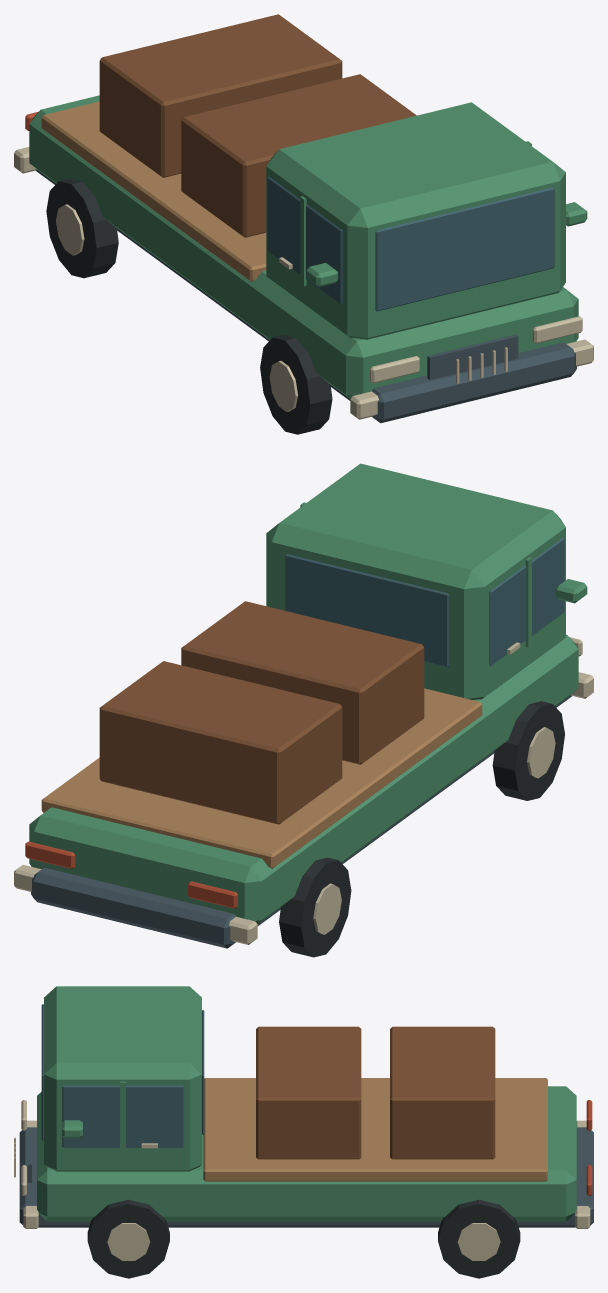
File: vehicle_flatbed.glb
The picture shows the model from 3 angles, top to bottom: view 1: azimuth 30°, elevation 25°; view 2: azimuth 150°, elevation 25°; view 3: azimuth 270°, elevation 25°; orthographic projection. The views are drawn at different scales.
Visible parts, largest first — view 1: vehicle_flatbed; view 2: vehicle_flatbed; view 3: vehicle_flatbed.
Part boxes in pixels (bbox=[...]): vehicle_flatbed: bbox=[14, 14, 593, 434]; vehicle_flatbed: bbox=[14, 463, 593, 957]; vehicle_flatbed: bbox=[14, 986, 593, 1278].
Size of the model in its own units: 2.68 by 2.34 by 6.06.
